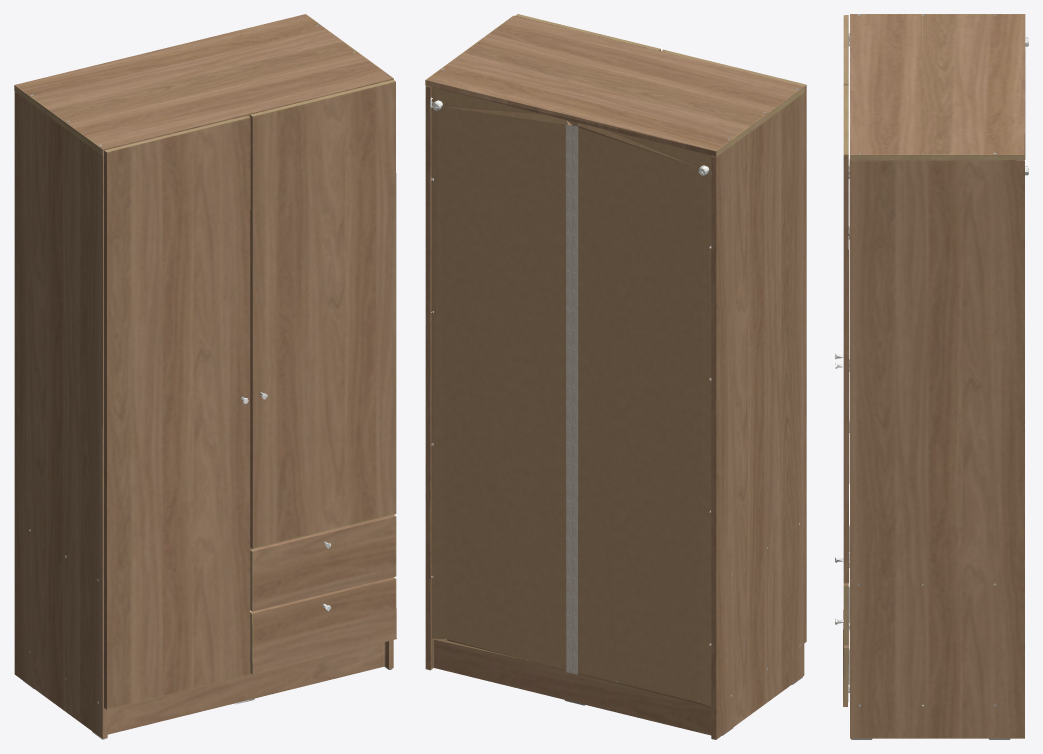
3 renders of one model, left to right at view 1: azimuth 30°, elevation 25°; view 2: azimuth 150°, elevation 25°; view 3: azimuth 270°, elevation 25°, orthographic.
Visible parts, largest first — view 1: model_NODE_ID_d07e58d3-69b5-4bef-9f7d-e5205a9c0398; view 2: model_NODE_ID_d07e58d3-69b5-4bef-9f7d-e5205a9c0398, model_NODE_ID_d07e58d3-69b5-4bef-9f7d-e5205a9c0398_1; view 3: model_NODE_ID_d07e58d3-69b5-4bef-9f7d-e5205a9c0398.
Boxes of the visible parts, bbox=[...] form: model_NODE_ID_d07e58d3-69b5-4bef-9f7d-e5205a9c0398: bbox=[14, 14, 396, 739]; model_NODE_ID_d07e58d3-69b5-4bef-9f7d-e5205a9c0398: bbox=[425, 14, 806, 739]; model_NODE_ID_d07e58d3-69b5-4bef-9f7d-e5205a9c0398_1: bbox=[565, 124, 578, 674]; model_NODE_ID_d07e58d3-69b5-4bef-9f7d-e5205a9c0398: bbox=[835, 14, 1028, 739].
Bounding box in the file's own units: 0.98 × 1.9 × 0.57.
2 materials, 2 textured.
